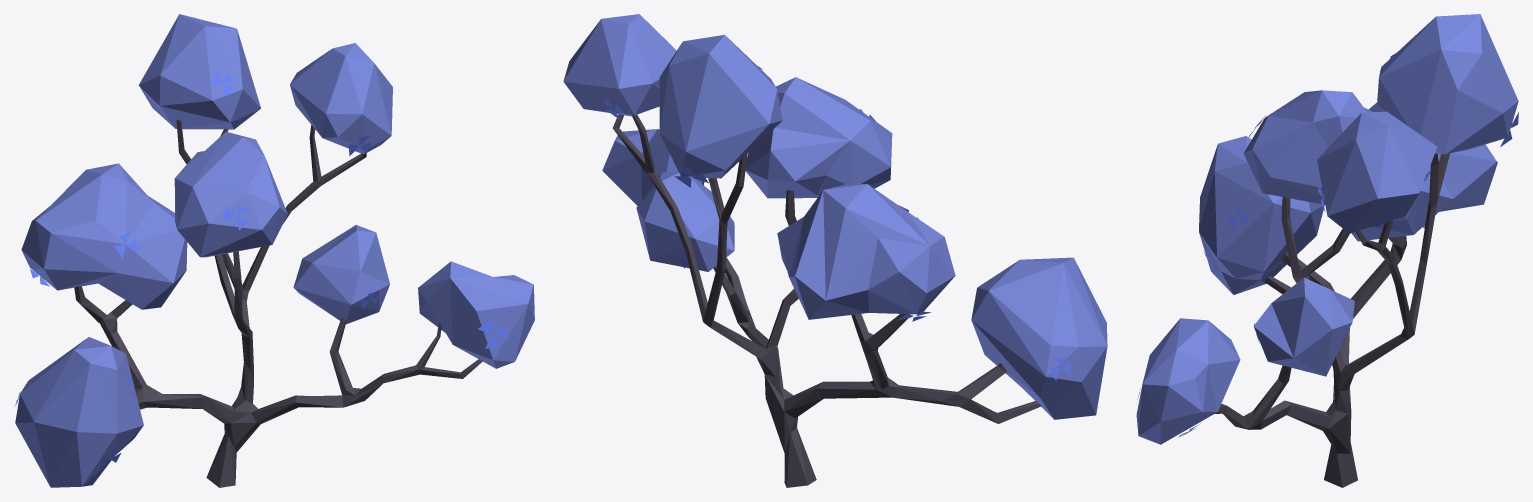
File: Bush_Fantasy_04.glb
The picture shows the model from 3 angles, left to right: view 1: azimuth 30°, elevation 25°; view 2: azimuth 150°, elevation 25°; view 3: azimuth 270°, elevation 25°; orthographic projection. The views are drawn at different scales.
Parts seen in each view (by area): view 1: Bush_Fantasy_04; view 2: Bush_Fantasy_04; view 3: Bush_Fantasy_04.
Boxes of the visible parts, x1,y1,x2,y2 form: Bush_Fantasy_04: [15, 14, 534, 487]; Bush_Fantasy_04: [563, 14, 1107, 487]; Bush_Fantasy_04: [1136, 14, 1518, 487].
Bounding box in the file's own units: 1.52 × 1.32 × 0.9581.
Materials: 1 (1 with a texture image).
